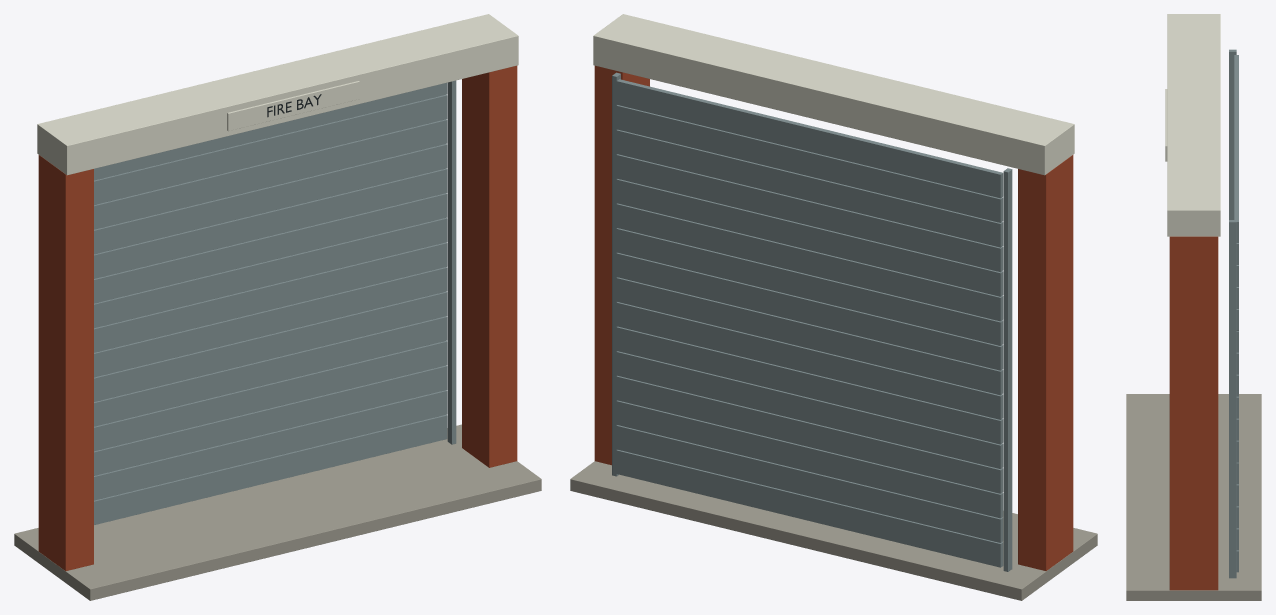
The model's file is fire-station-vehicle-bay.glb.
The picture shows the model from 3 angles, left to right: view 1: azimuth 30°, elevation 25°; view 2: azimuth 150°, elevation 25°; view 3: azimuth 270°, elevation 25°; orthographic projection. The views are drawn at different scales.
Visible parts, largest first — view 1: Bay_Slab, Lintel, Bay_Pier.001, Bay_Pier, Section_13, Section_0, Section_11, Section_2, Section_5, Section_7, Section_9, Section_3 (+9 smaller); view 2: Lintel, Bay_Pier.001, Bay_Slab, Section_15, Section_10, Section_2, Section_5, Section_7, Section_0, Section_12, Section_3, Section_8 (+10 smaller); view 3: Bay_Pier, Bay_Slab, Lintel, Guide_Rail.001, Guide_Rail, Section_15, Replaceable_Bay_Number.
Part boxes in pixels (<box>): Bay_Slab: <box>14,424,541,600</box>; Lintel: <box>37,14,518,175</box>; Bay_Pier.001: <box>38,155,93,570</box>; Bay_Pier: <box>462,65,517,467</box>; Section_13: <box>94,94,447,204</box>; Section_0: <box>94,414,447,524</box>; Section_11: <box>94,144,447,254</box>; Section_2: <box>94,365,447,475</box>; Section_5: <box>94,291,447,401</box>; Section_7: <box>94,242,447,352</box>; Section_9: <box>94,193,447,303</box>; Section_3: <box>94,341,447,451</box>; Lintel: <box>593,14,1074,175</box>; Bay_Pier.001: <box>1018,155,1073,570</box>; Bay_Slab: <box>570,461,1097,600</box>; Section_15: <box>616,79,1003,198</box>; Section_10: <box>616,203,1003,321</box>; Section_2: <box>616,400,1003,518</box>; Section_5: <box>616,326,1003,444</box>; Section_7: <box>616,277,1003,395</box>; Section_0: <box>616,450,1003,567</box>; Section_12: <box>616,154,1003,272</box>; Section_3: <box>616,376,1003,493</box>; Section_8: <box>616,253,1003,370</box>; Bay_Pier: <box>1169,236,1218,590</box>; Bay_Slab: <box>1126,394,1261,600</box>; Lintel: <box>1167,14,1220,236</box>; Guide_Rail.001: <box>1229,220,1236,578</box>; Guide_Rail: <box>1229,49,1236,219</box>; Section_15: <box>1234,55,1238,242</box>; Replaceable_Bay_Number: <box>1165,89,1167,161</box>.
Bounding box in the file's own units: 4.8 × 4.45 × 1.4.
